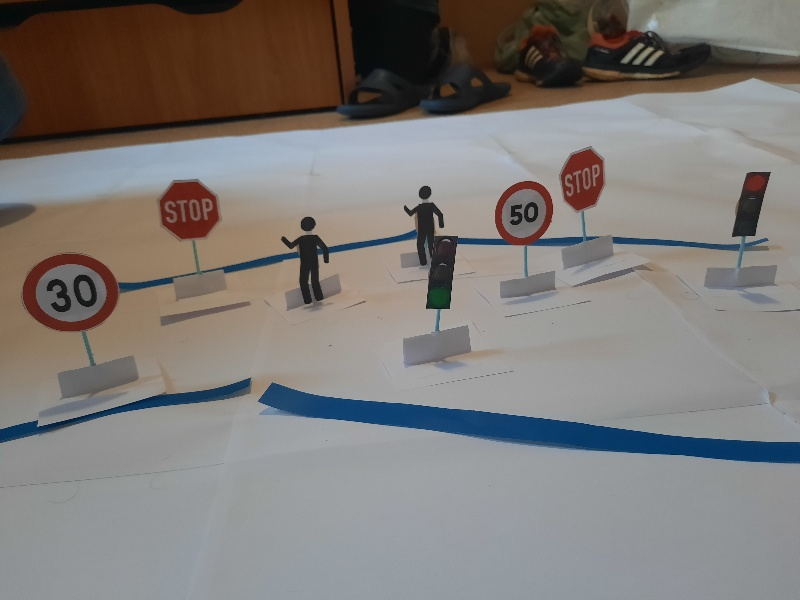Green: (424, 237, 455, 311)
Limit 30: (16, 250, 120, 333)
Limit 50: (491, 179, 553, 245)
Person: (277, 215, 334, 310), (399, 185, 446, 267)
Red: (731, 168, 769, 239)
Stop: (154, 176, 221, 242), (557, 146, 610, 212)
